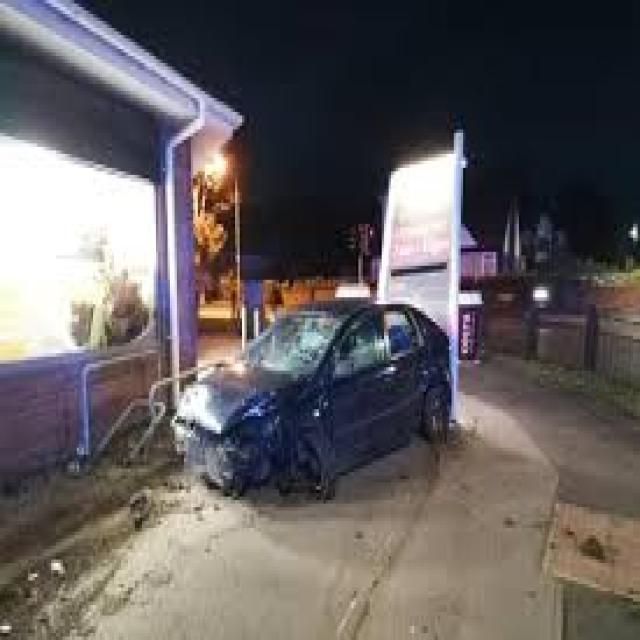Accident: (164, 270, 457, 500)
